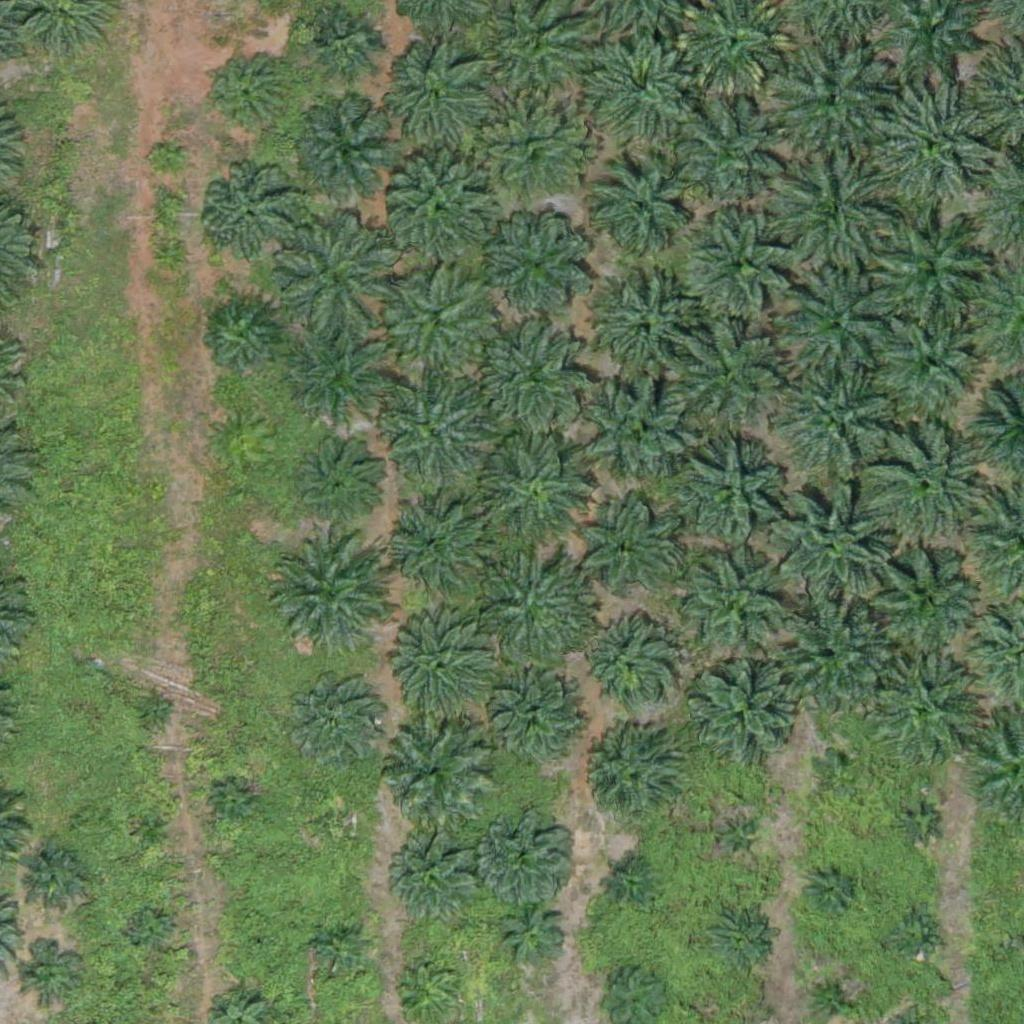Kelapa_Sawit: (864, 82, 989, 208), (770, 37, 895, 163), (760, 152, 885, 278), (270, 211, 395, 337), (263, 531, 388, 657), (673, 545, 798, 671), (776, 260, 901, 386), (774, 354, 899, 480), (769, 489, 894, 615), (769, 604, 894, 730), (866, 199, 991, 325), (870, 298, 995, 424), (866, 419, 991, 545), (856, 532, 981, 658), (475, 546, 600, 671), (473, 93, 586, 206), (385, 154, 498, 267), (375, 38, 488, 151), (483, 204, 596, 317), (591, 274, 704, 387), (374, 714, 487, 827), (478, 319, 591, 432), (478, 432, 591, 545), (576, 370, 689, 483), (690, 660, 803, 773), (670, 321, 782, 435), (677, 99, 789, 212), (584, 152, 696, 265), (584, 28, 696, 141), (685, 208, 797, 321), (383, 270, 495, 383), (284, 321, 396, 434), (379, 377, 491, 490), (381, 610, 493, 723), (672, 434, 784, 547), (869, 660, 981, 773), (295, 103, 395, 204), (284, 670, 384, 771), (387, 498, 487, 599), (485, 670, 585, 771), (575, 498, 675, 599), (577, 615, 677, 716), (575, 728, 675, 829), (480, 805, 580, 906), (199, 166, 299, 266), (206, 52, 294, 140), (296, 435, 383, 523), (393, 838, 480, 926), (205, 300, 280, 376), (307, 7, 382, 82), (15, 943, 78, 1006), (25, 845, 88, 908), (308, 918, 371, 981), (710, 909, 772, 972), (501, 900, 563, 963), (807, 970, 857, 1021), (805, 861, 855, 911), (894, 798, 944, 848), (890, 909, 940, 959), (710, 813, 760, 863), (813, 744, 863, 794), (130, 909, 168, 947), (134, 811, 172, 849), (135, 692, 173, 730), (149, 143, 186, 181), (612, 867, 650, 904), (320, 805, 358, 842), (216, 785, 253, 823), (247, 935, 272, 960)
